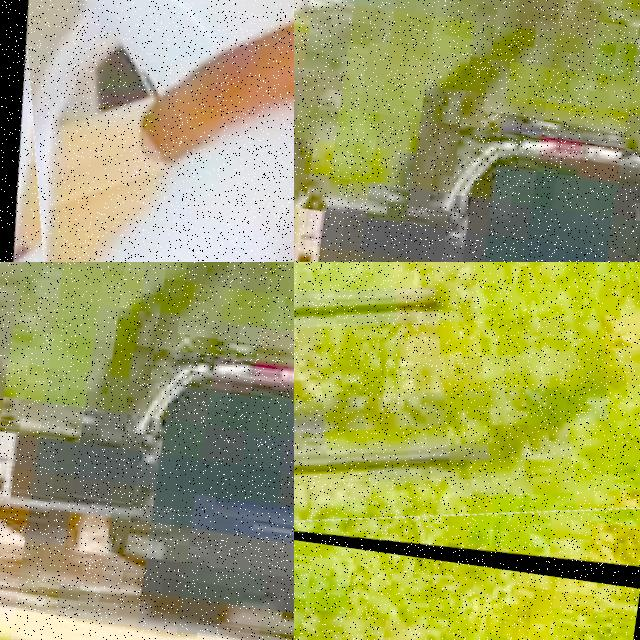drone: (294, 262, 640, 589), (0, 0, 294, 262)
